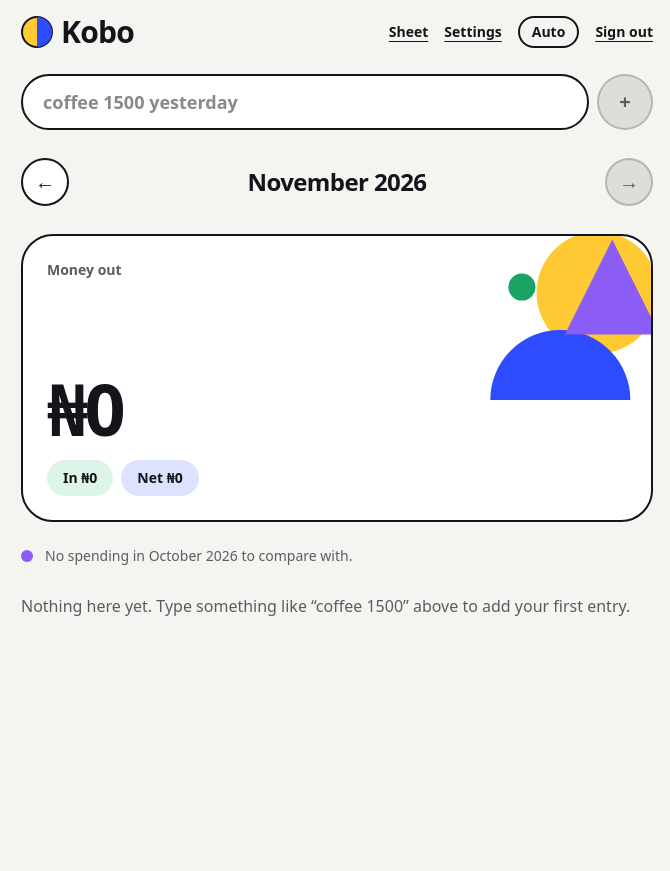
QuickAdd › saves on Enter with the right values, then clears the field
Type "bolt 2.5k yesterday" into the field named "Quick add" at x=305, y=102, box [21,74,589,130]
Then press Enter
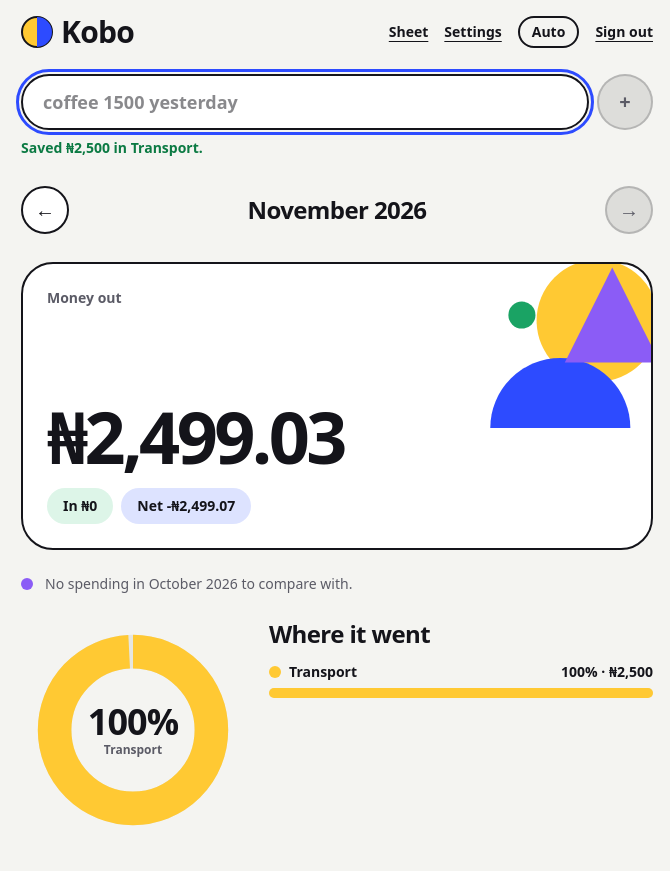
Now the text "Saved ₦2,500 in Transport." is shown, box [21,138,203,157]
